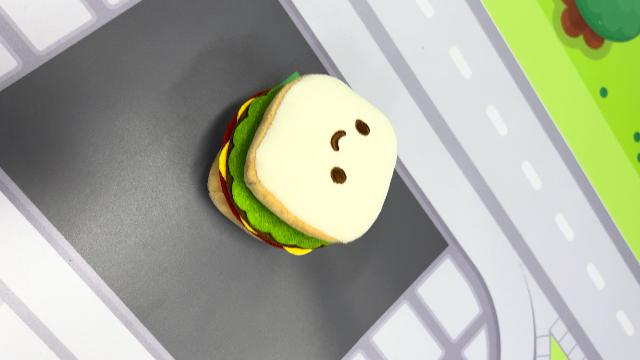sandwich: (204, 69, 400, 257)
